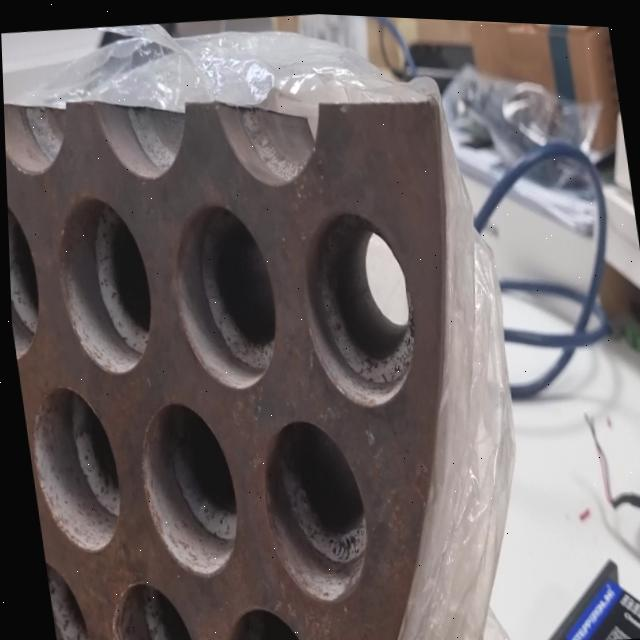Hole: (289, 197, 423, 411), (159, 193, 284, 393), (249, 409, 372, 605), (127, 391, 242, 581), (45, 188, 157, 379), (19, 378, 124, 557), (5, 182, 43, 359), (99, 571, 194, 640), (39, 552, 87, 640), (211, 601, 305, 640)
